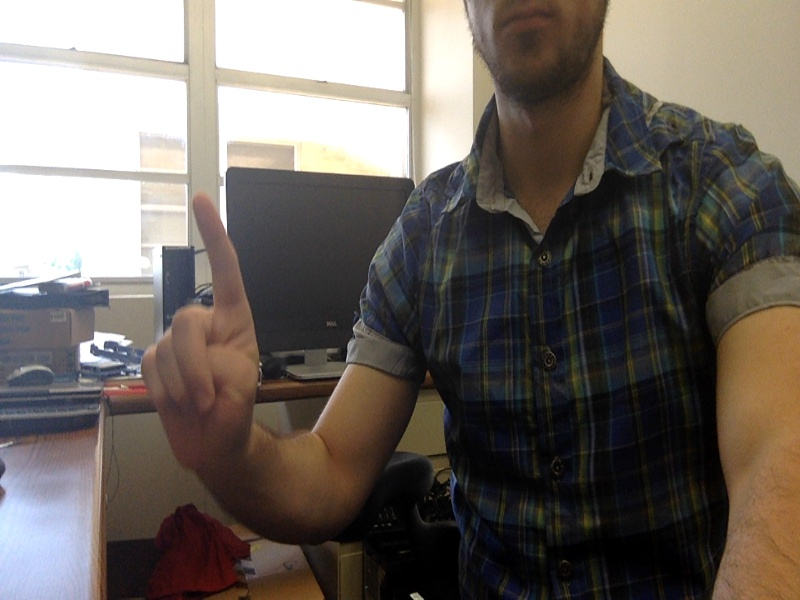1-hand: (143, 194, 259, 473)
